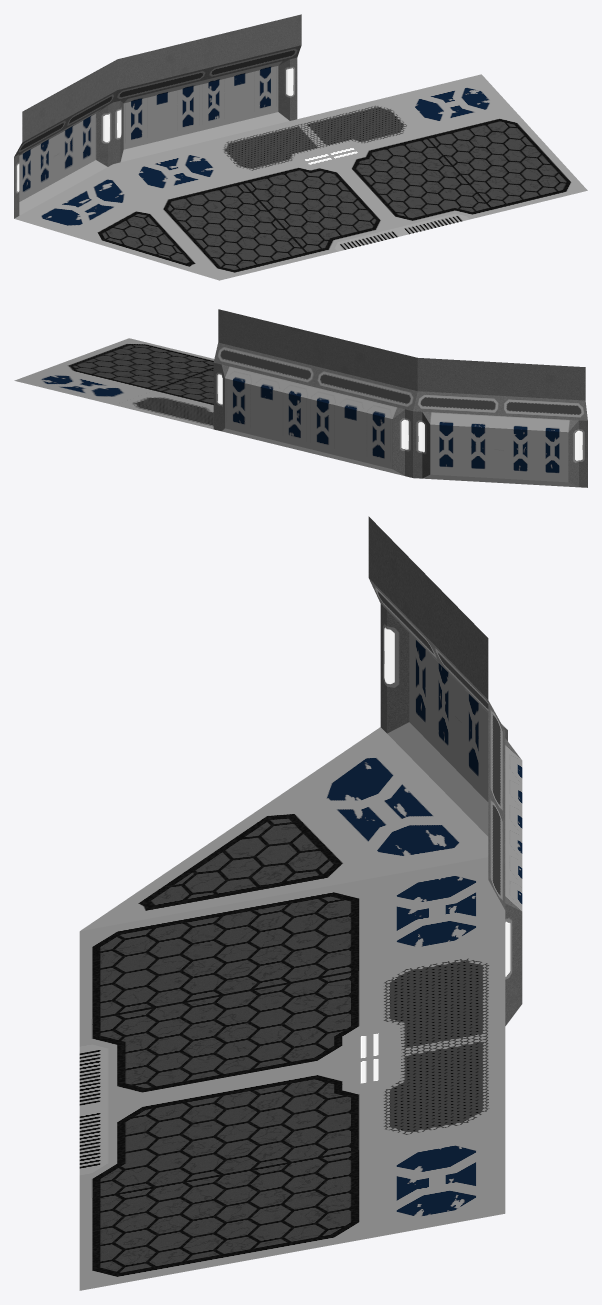
Rendered from Arena.fbx.
3 views of the same model, one above another, from view 1: azimuth 30°, elevation 25°; view 2: azimuth 150°, elevation 25°; view 3: azimuth 270°, elevation 25° (orthographic). The views are drawn at different scales.
Visible parts, largest first — view 1: RampA, WallA, RampB, RampD, WallB, RampC; view 2: WallA, WallB, RampD, RampA; view 3: RampA, RampD, RampB, RampC, WallB, WallA.
Boxes of the visible parts, x1=… form: RampA: x1=205, y1=97, x2=495, y2=257; WallA: x1=113, y1=14, x2=301, y2=163; RampB: x1=113, y1=142, x2=311, y2=280; RampD: x1=390, y1=74, x2=587, y2=212; WallB: x1=14, y1=59, x2=117, y2=218; RampC: x1=14, y1=164, x2=218, y2=280; WallA: x1=213, y1=309, x2=417, y2=477; WallB: x1=413, y1=358, x2=587, y2=487; RampD: x1=14, y1=338, x2=214, y2=404; RampA: x1=114, y1=368, x2=213, y2=429; RampA: x1=79, y1=944, x2=505, y2=1200; RampD: x1=79, y1=1124, x2=505, y2=1290; RampB: x1=79, y1=857, x2=505, y2=1020; RampC: x1=80, y1=727, x2=488, y2=930; WallB: x1=368, y1=516, x2=507, y2=836; WallA: x1=488, y1=700, x2=522, y2=1025.
Size of what is drawn, in the model's own units: 67.68 by 19 by 26.
